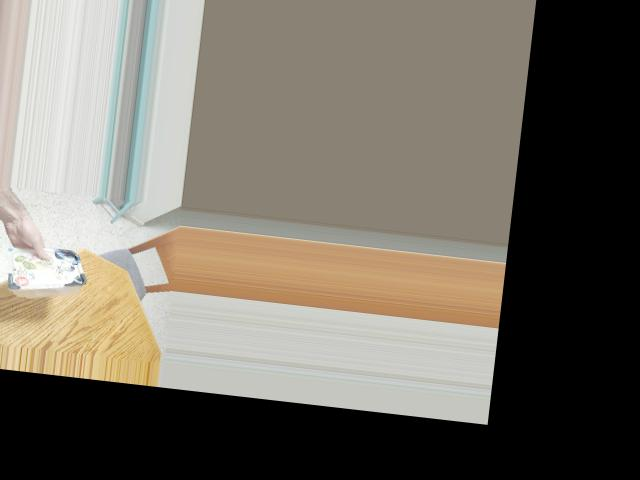cheese: (7, 235, 86, 299)
